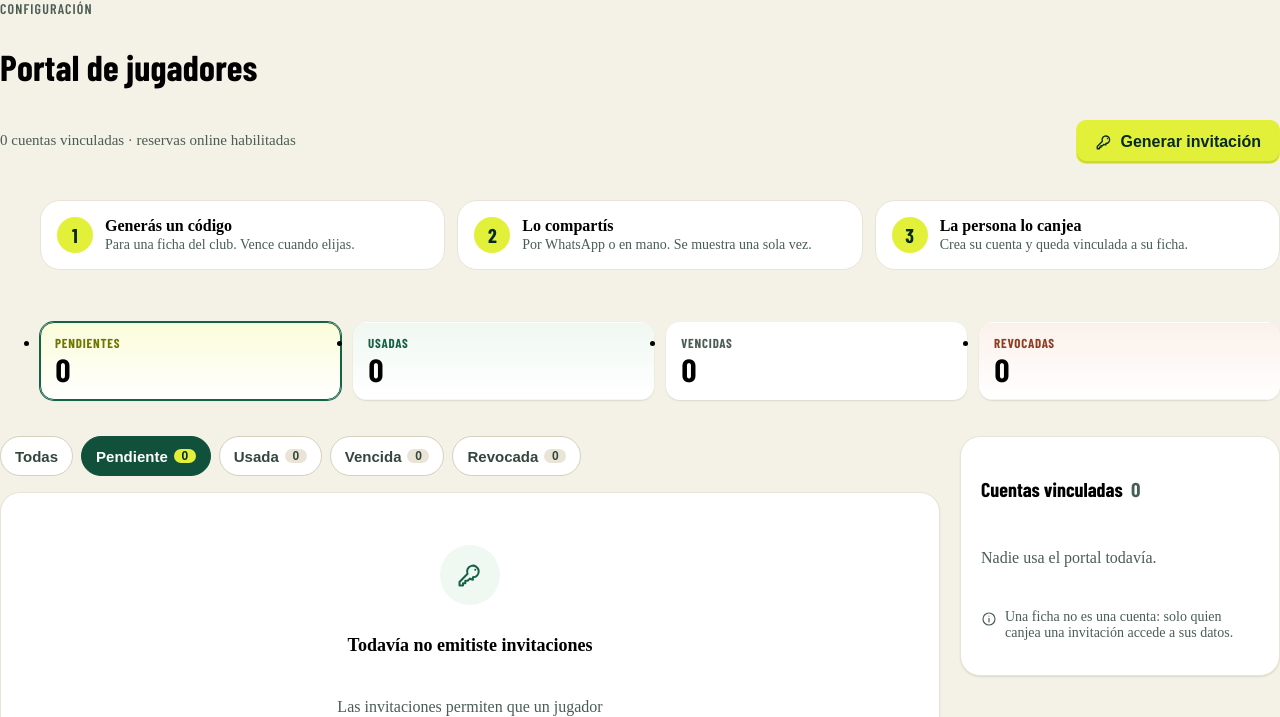
PlayerAccessPanel · invitaciones › muestra el error sin código si el servidor rechaza la invitación
This screenshot has width=1280, height=717.
expect the text "Todavía no emitiste invitaciones" is shown: met, box [348,635,592,656]
Click the button "Generar invitación" at (1178, 142), box [1076,120,1279,164]
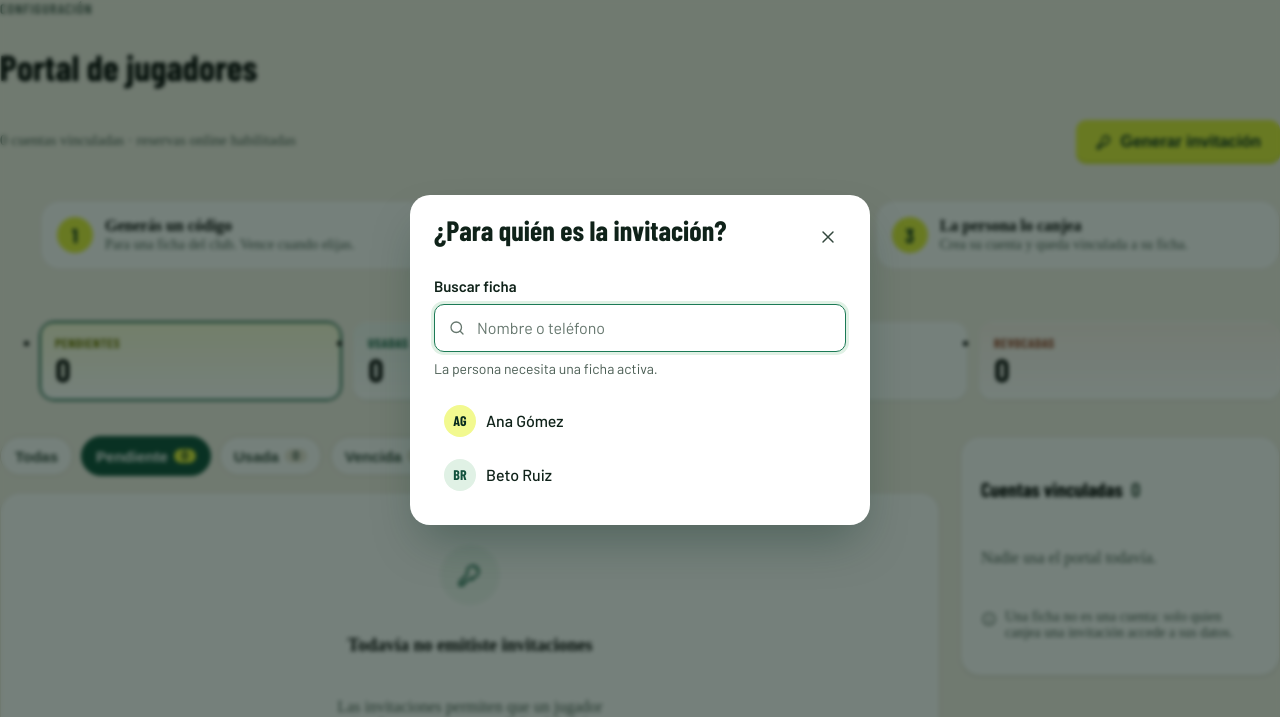
Click the button "BR Beto Ruiz" at (460, 475), box [434,449,846,501]
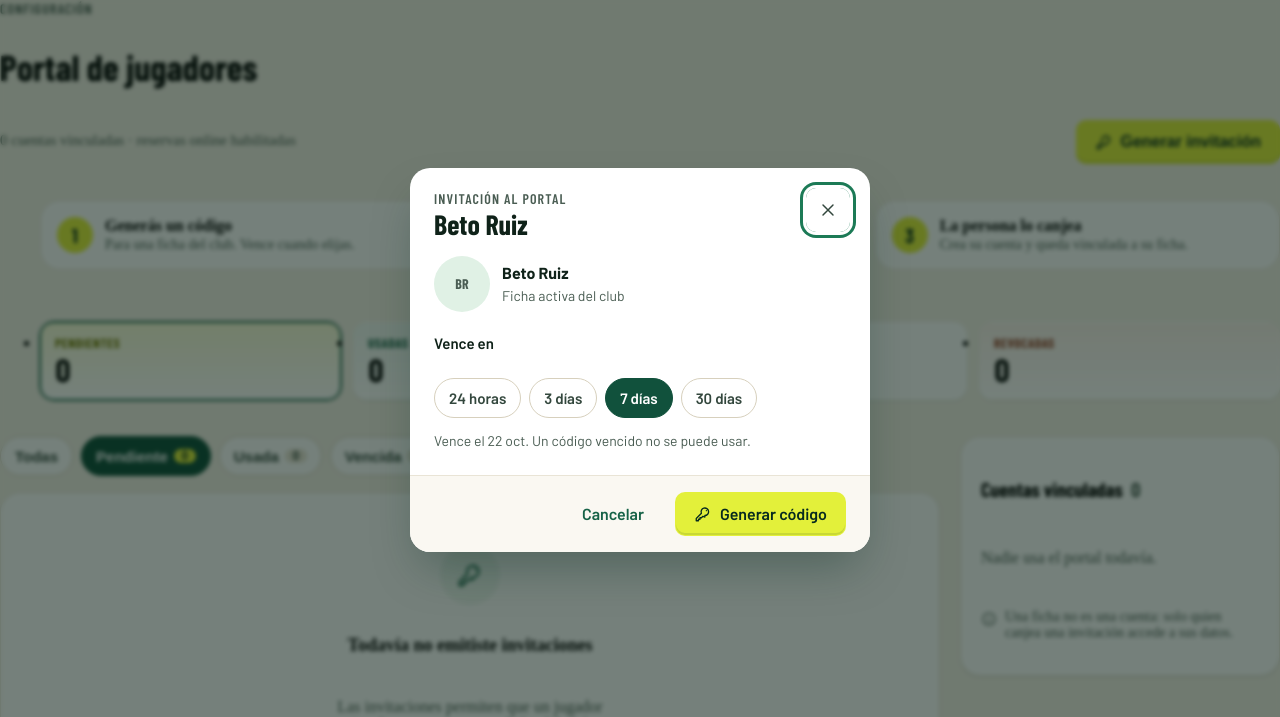
Click the button "Generar código" at (760, 514), box [675,492,846,536]
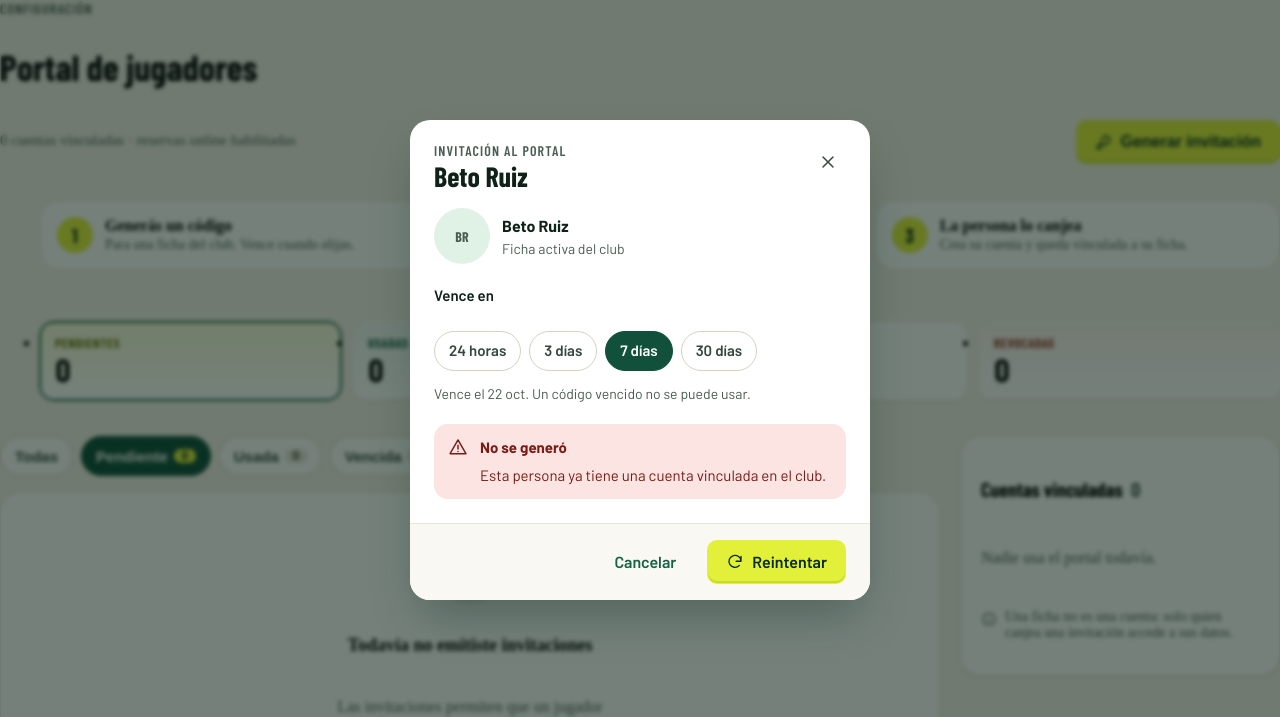
expect the text "Esta persona ya tiene una cuenta vinculada en el club." is shown: met, box [480,464,826,487]
